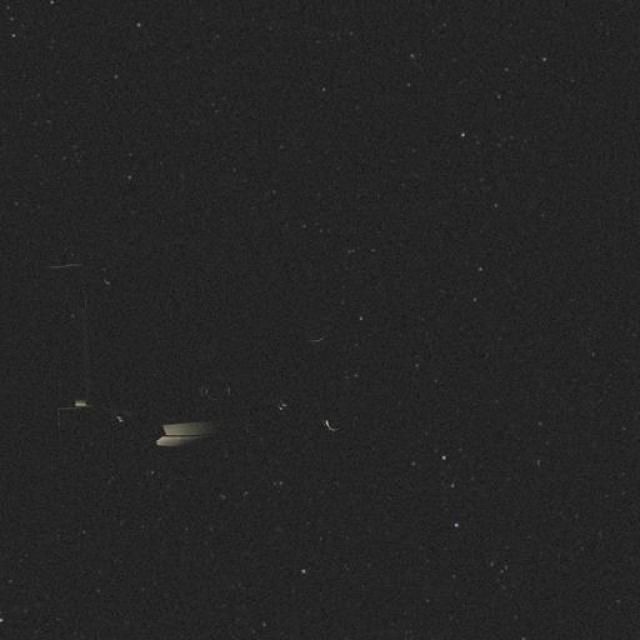proba_3_csc: (41, 212, 387, 524)
